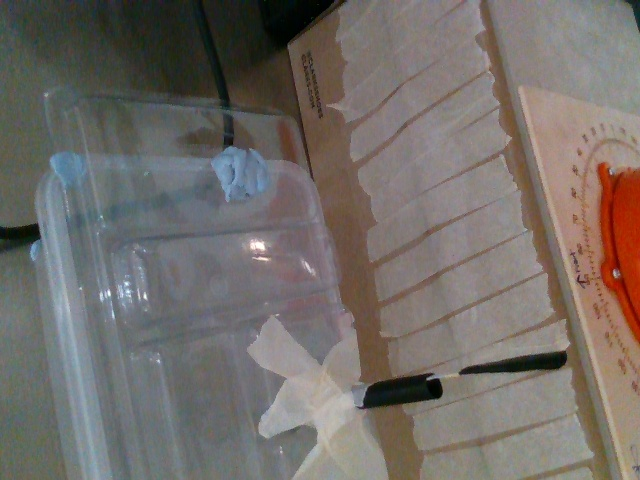test_strip: (423, 352, 563, 380)
